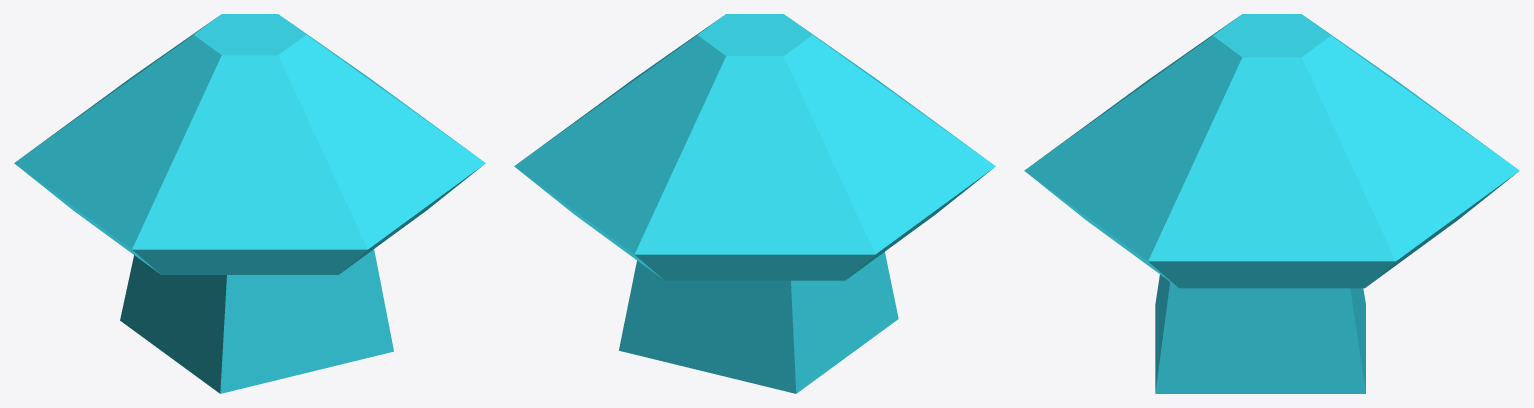
The model's file is kenney_nature-kit__mushroom_tan__cave.fbx.
3 views of the same model, side by side, from view 1: azimuth 30°, elevation 25°; view 2: azimuth 150°, elevation 25°; view 3: azimuth 270°, elevation 25° (orthographic). The views are drawn at different scales.
Parts seen in each view (by area): view 1: kenney_nature-kit__mushroom_tan__cave_colortan_flower, kenney_nature-kit__mushroom_tan__cave_defaultmat_flower; view 2: kenney_nature-kit__mushroom_tan__cave_colortan_flower, kenney_nature-kit__mushroom_tan__cave_defaultmat_flower; view 3: kenney_nature-kit__mushroom_tan__cave_colortan_flower, kenney_nature-kit__mushroom_tan__cave_defaultmat_flower.
Part boxes in pixels (bbox=[...]): kenney_nature-kit__mushroom_tan__cave_colortan_flower: bbox=[14, 14, 485, 249]; kenney_nature-kit__mushroom_tan__cave_defaultmat_flower: bbox=[18, 166, 481, 393]; kenney_nature-kit__mushroom_tan__cave_colortan_flower: bbox=[514, 14, 995, 254]; kenney_nature-kit__mushroom_tan__cave_defaultmat_flower: bbox=[518, 169, 991, 393]; kenney_nature-kit__mushroom_tan__cave_colortan_flower: bbox=[1024, 14, 1519, 261]; kenney_nature-kit__mushroom_tan__cave_defaultmat_flower: bbox=[1026, 172, 1517, 393].
Bounding box in the file's own units: 0.6834 × 0.5496 × 0.7892.
1 material, 1 textured.
